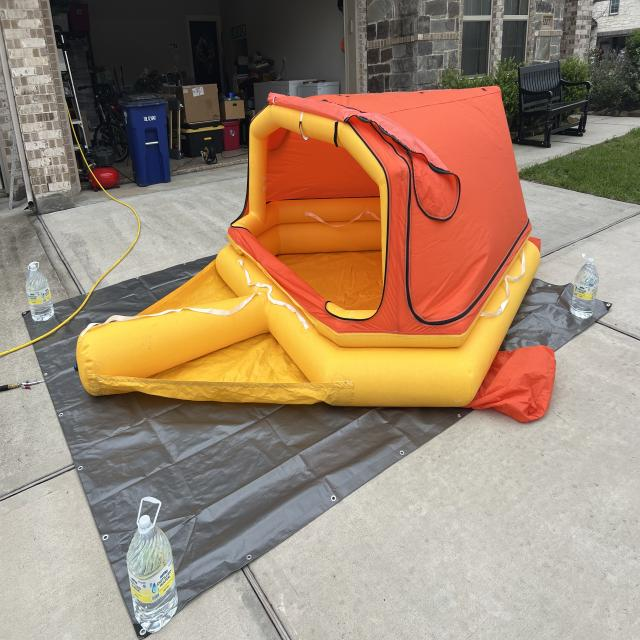Multi-person_life_raft: (77, 85, 557, 426)
